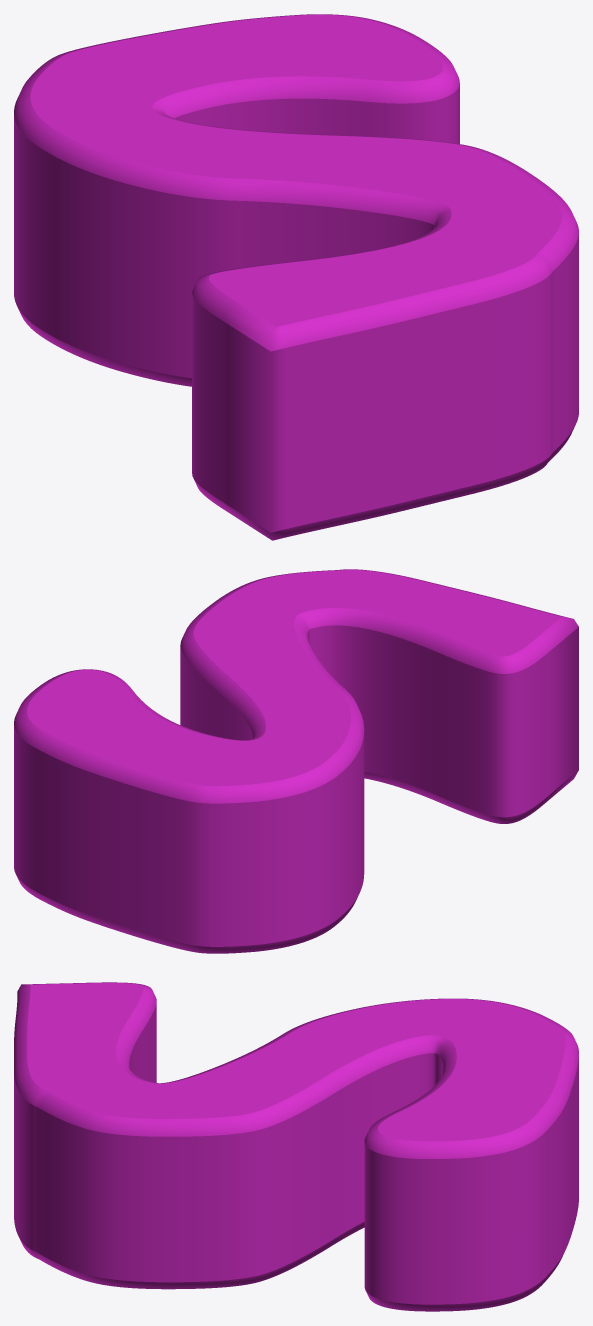
File: Bubble_Letter_s.fbx
3 views of the same model, one above another, from view 1: azimuth 30°, elevation 25°; view 2: azimuth 150°, elevation 25°; view 3: azimuth 270°, elevation 25° (orthographic). The views are drawn at different scales.
Parts seen in each view (by area): view 1: BubbleLetter_s; view 2: BubbleLetter_s; view 3: BubbleLetter_s.
Boxes of the visible parts, x1,y1,x2,y2 form: BubbleLetter_s: (14,14,578,540); BubbleLetter_s: (14,569,578,953); BubbleLetter_s: (14,982,578,1311).
Size of the model in its own units: 0.3004 by 0.14 by 0.4224.
